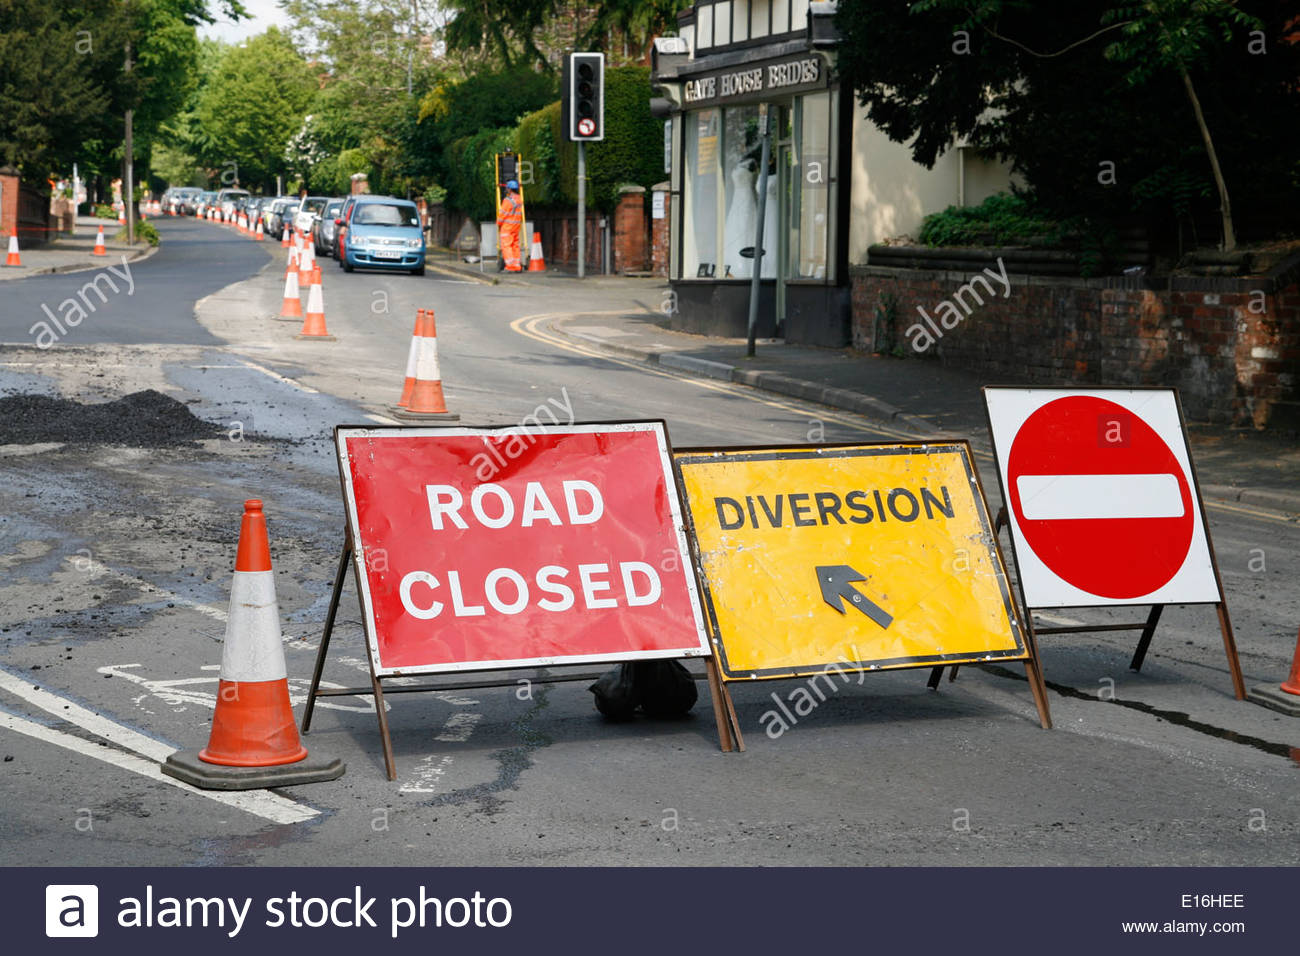No_entry: (1006, 395, 1195, 600)
